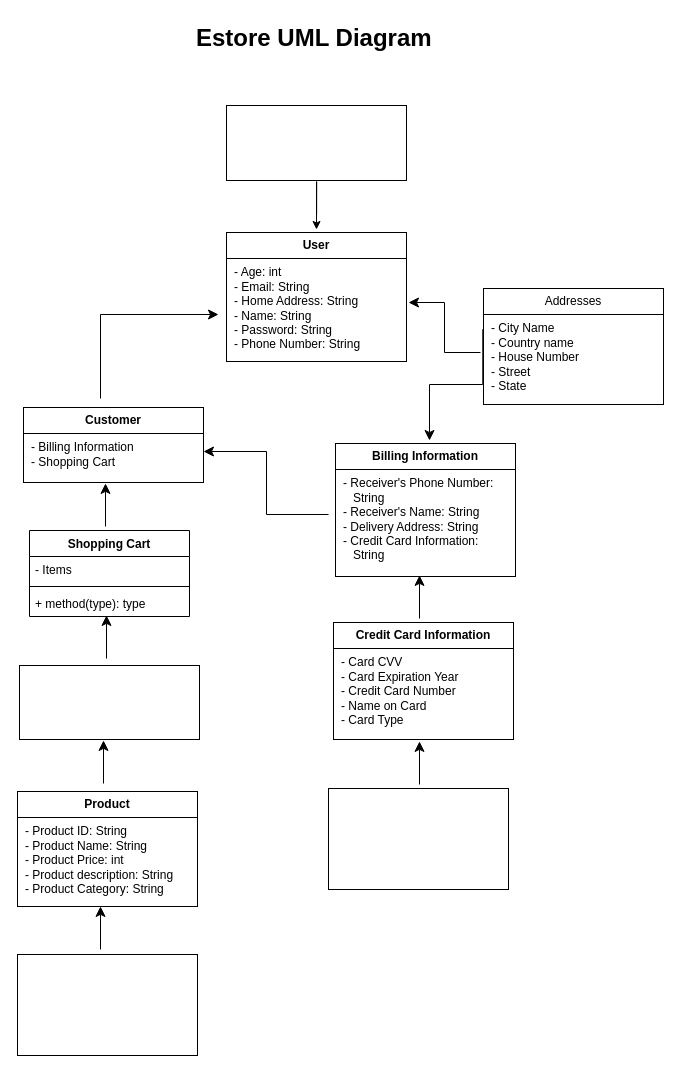
Image size: 681x1073. Some labels were removed from this diagram. The centre of each missing label's shape, as x and y in pixels:
Card Type + MASTER CARD + VISA CARD + VERVE + AMERICA EXPRESS: point 418,839
Estore + Customer (Estore: String) + Seller / Admin (Estore: String): point 316,142
Item - Quantity Selected: int - Product: String: point 109,702
Product Category + ELECTRONICS + GROCERIES + UTENSILS + CLOTHINGS: point 107,1005
